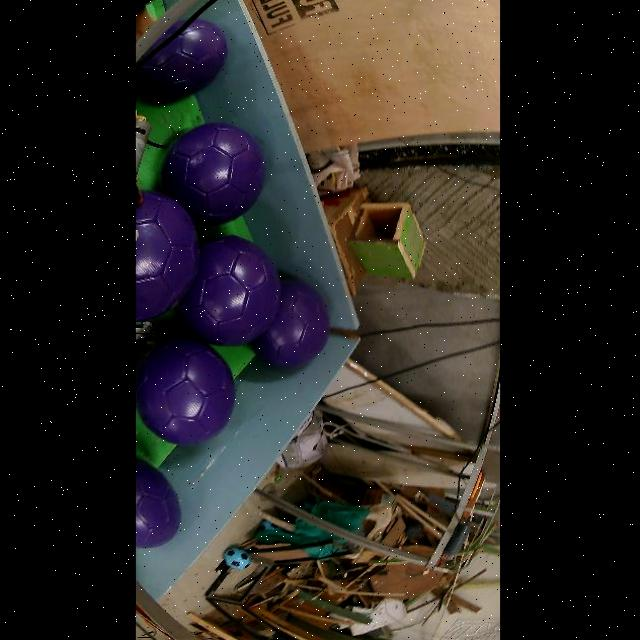P: (176, 235, 280, 345), (136, 336, 235, 445), (161, 123, 264, 225), (135, 191, 198, 321), (135, 19, 227, 104), (250, 279, 330, 368), (135, 458, 180, 548)
